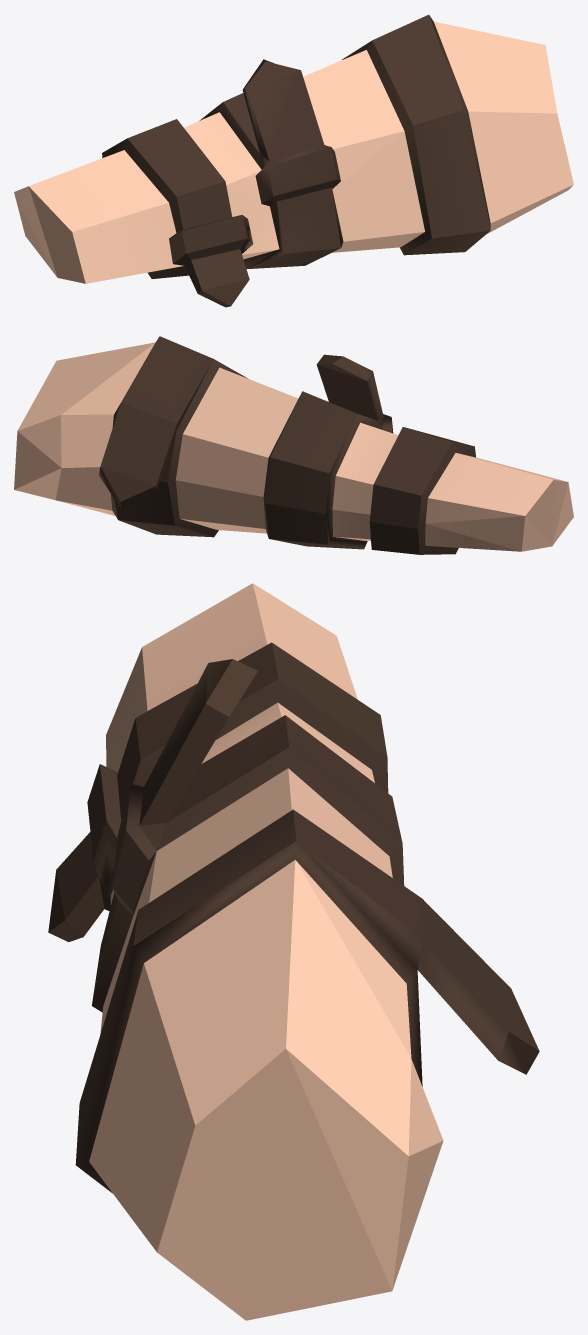
File: Chr_ArmLowerRight_Female_02_Static.fbx
The picture shows the model from 3 angles, top to bottom: view 1: azimuth 30°, elevation 25°; view 2: azimuth 150°, elevation 25°; view 3: azimuth 270°, elevation 25°; orthographic projection. The views are drawn at different scales.
Parts seen in each view (by area): view 1: Chr_ArmLowerRight_Female_02_Static; view 2: Chr_ArmLowerRight_Female_02_Static; view 3: Chr_ArmLowerRight_Female_02_Static.
Part boxes in pixels (x1,y1,x2,y2): Chr_ArmLowerRight_Female_02_Static: (14, 14, 573, 307); Chr_ArmLowerRight_Female_02_Static: (14, 336, 573, 554); Chr_ArmLowerRight_Female_02_Static: (48, 583, 539, 1320).
Size of the model in its own units: 0.2903 by 0.1227 by 0.1224.
